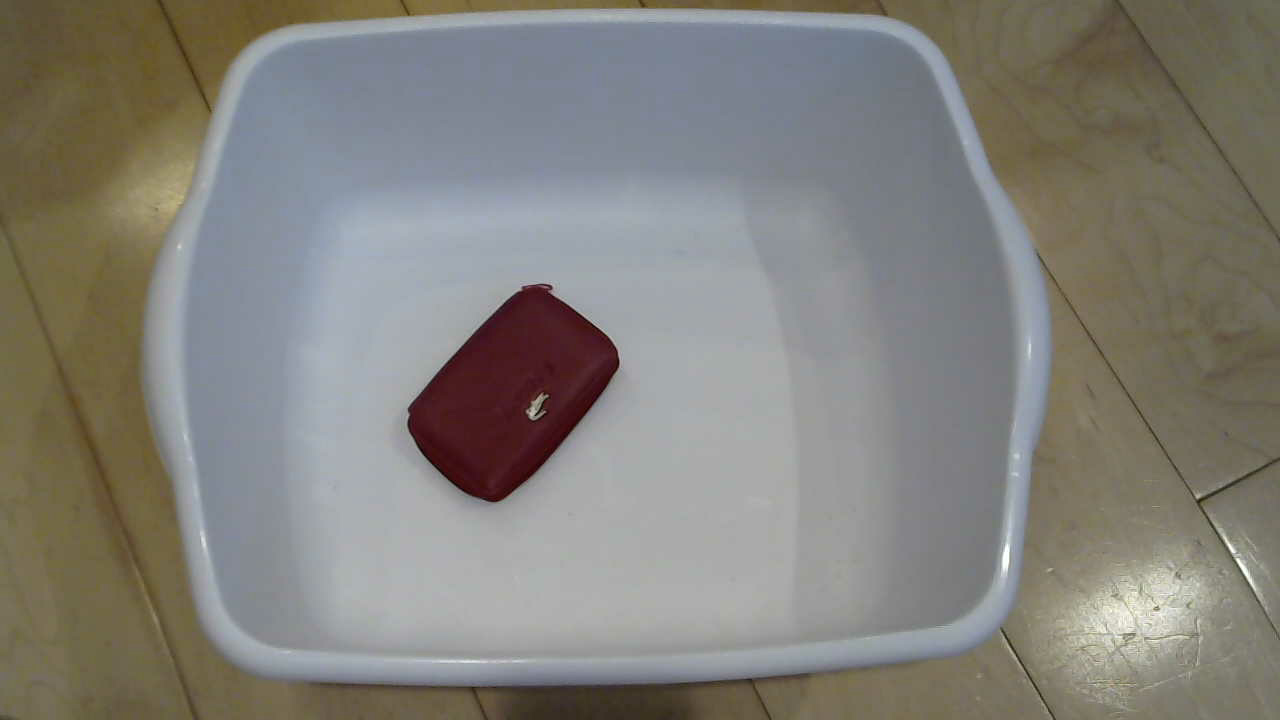wallet: (399, 276, 635, 516)
